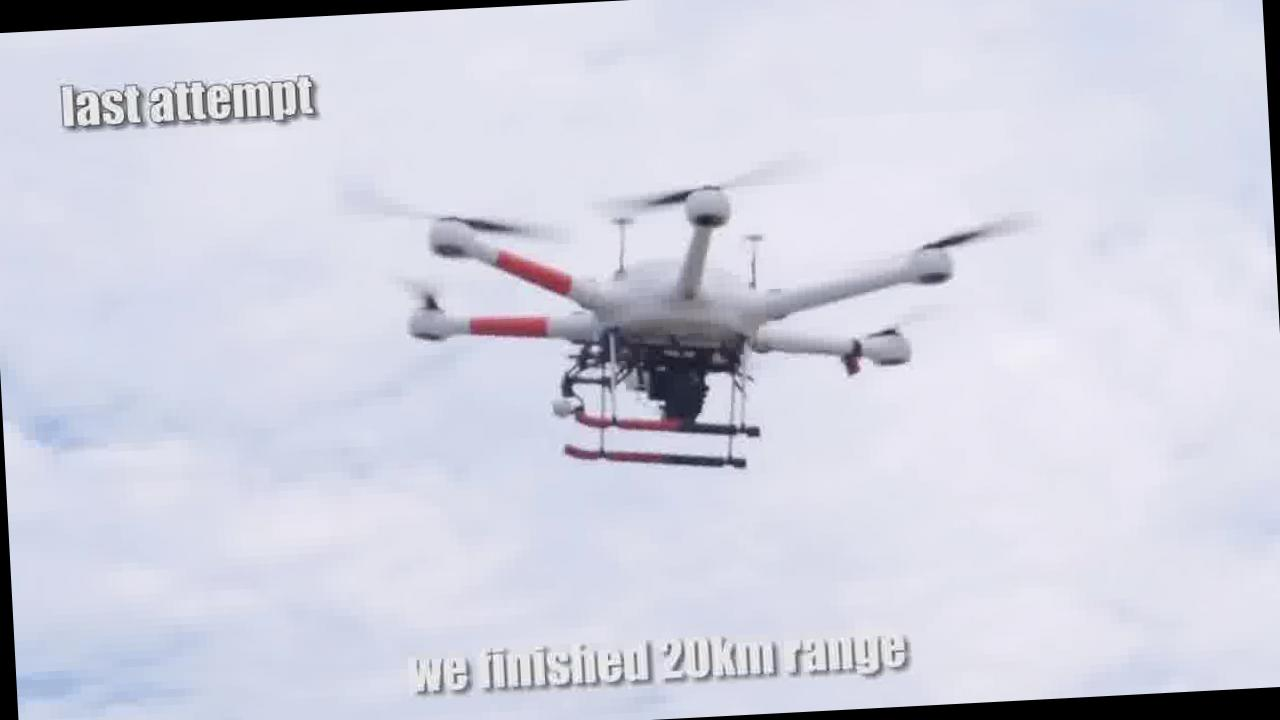drone: (374, 159, 976, 487)
